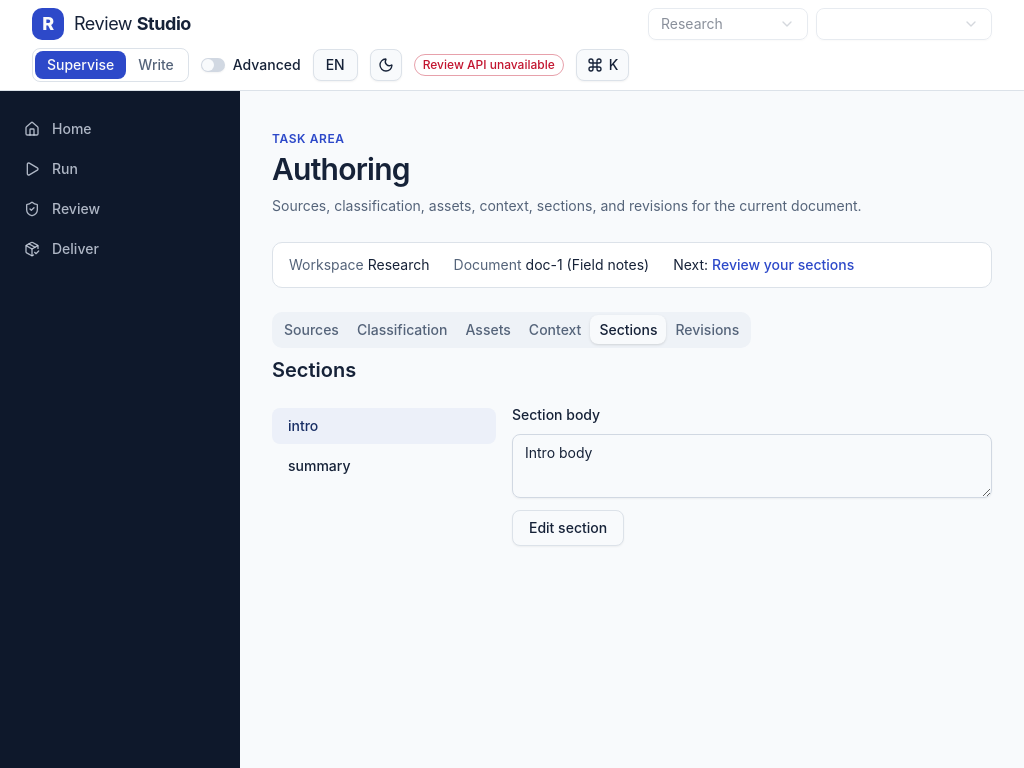
it: Sections editing › returns to read-only when another section is opened
The image size is (1024, 768).
Click the button "Edit section". click: [568, 528]
box: [512,510,624,546]
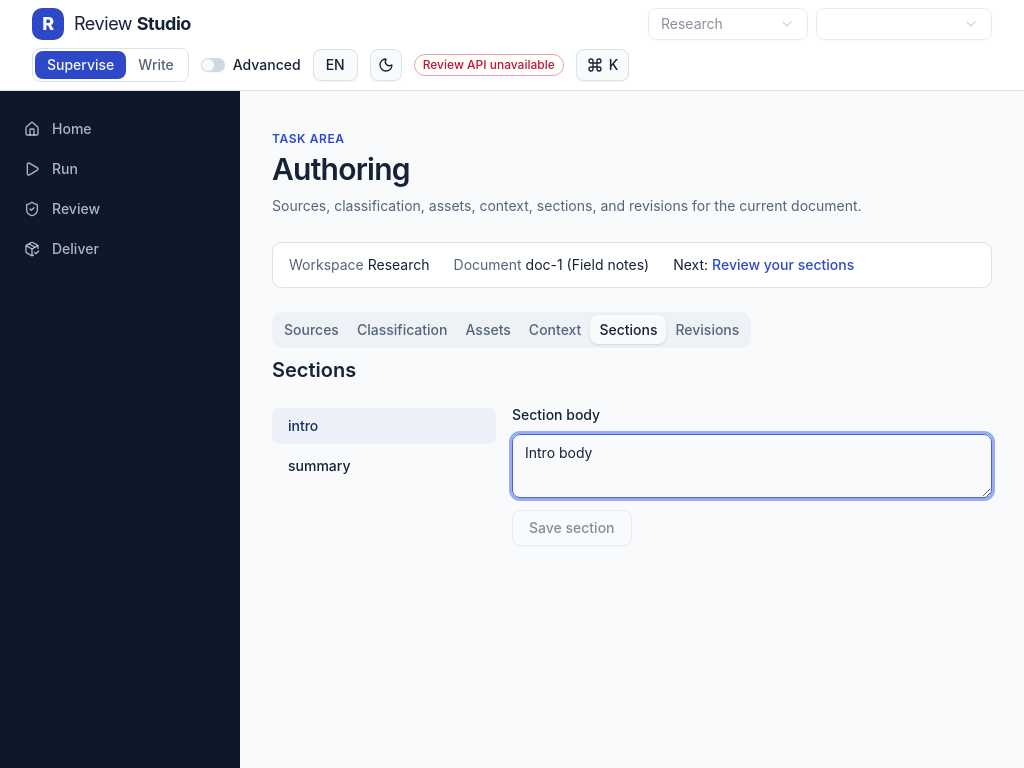
Click the button "summary". click: [384, 466]
box: [272,448,496,484]
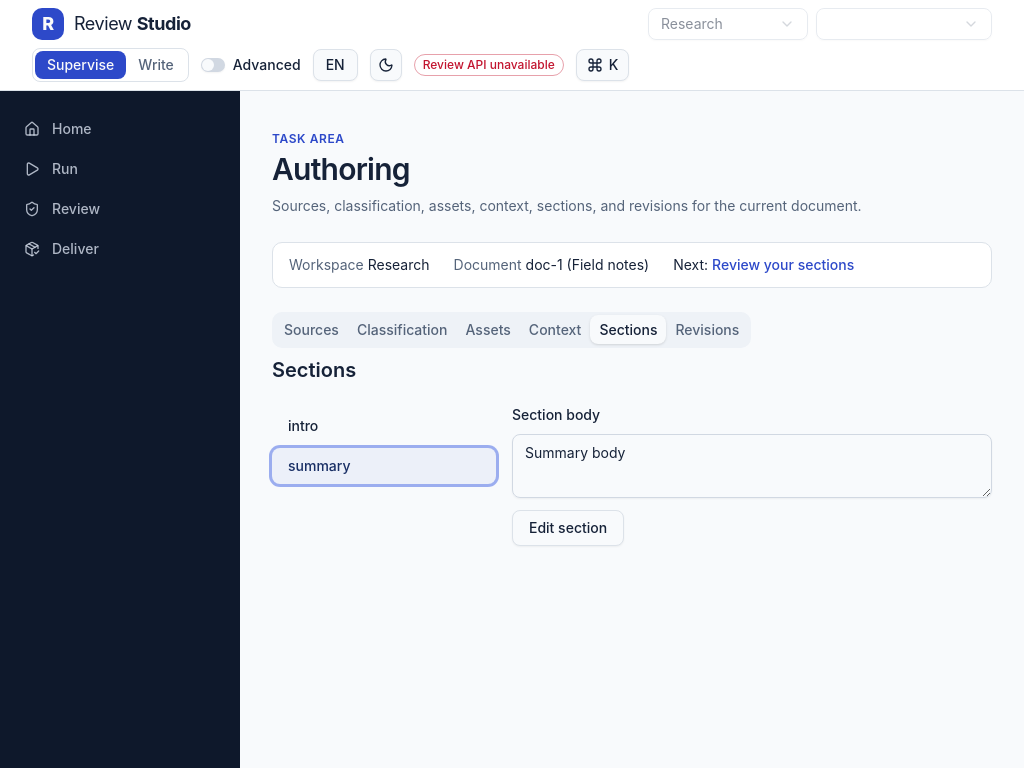
Result: the button "Edit section" is shown at [512,510,624,546]
